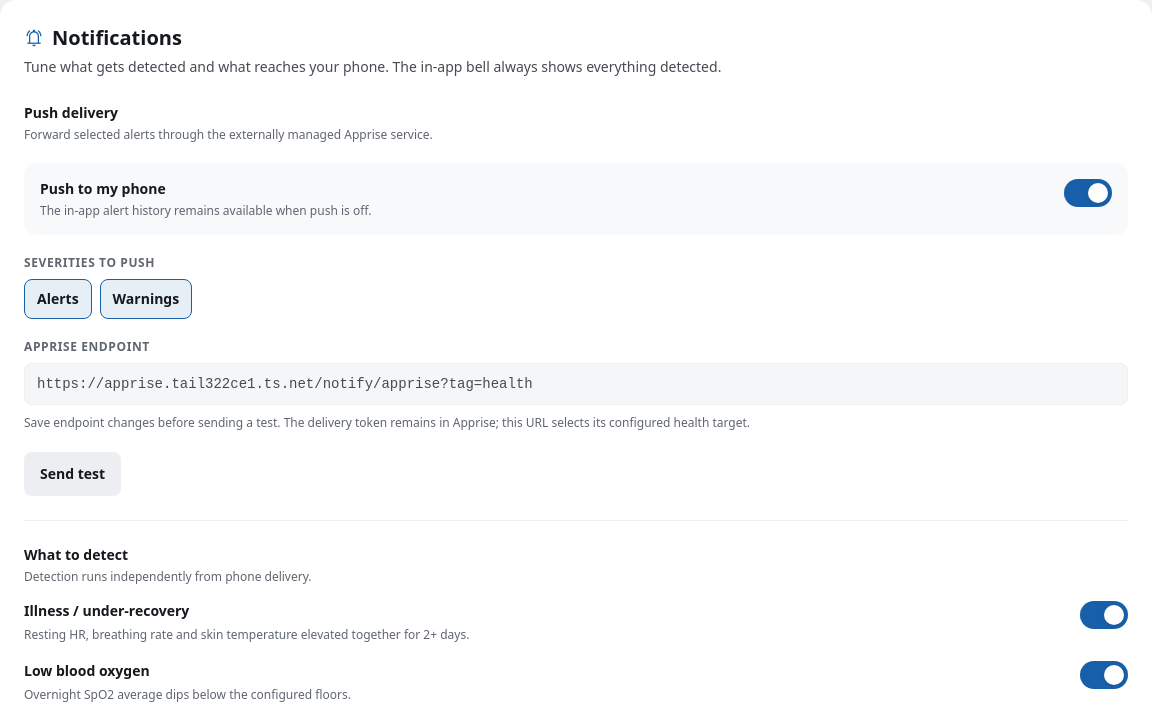
Test case: NotificationSettingsCard › surfaces the Apprise status when sending a test (204 = no targets)
Click the button with test id "notif-test".
click(73, 474)  # box [24, 452, 121, 496]
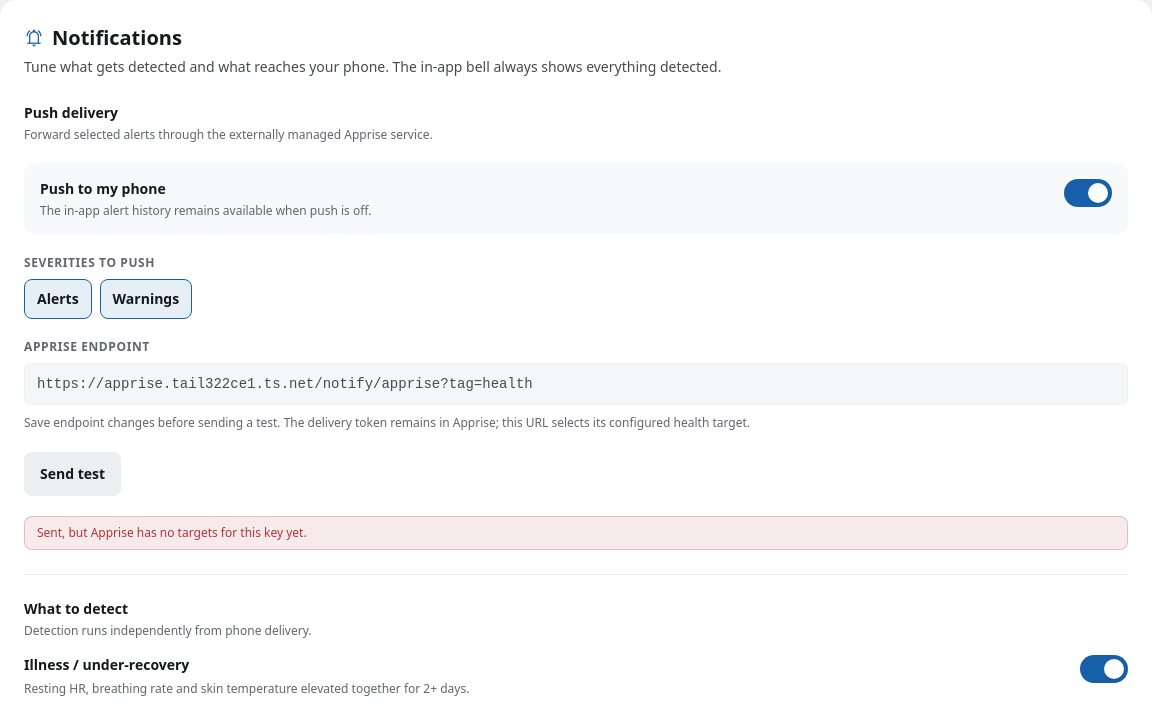
Now the text with test id "notif-test-result" shows "no targets", box [37, 524, 307, 541]
